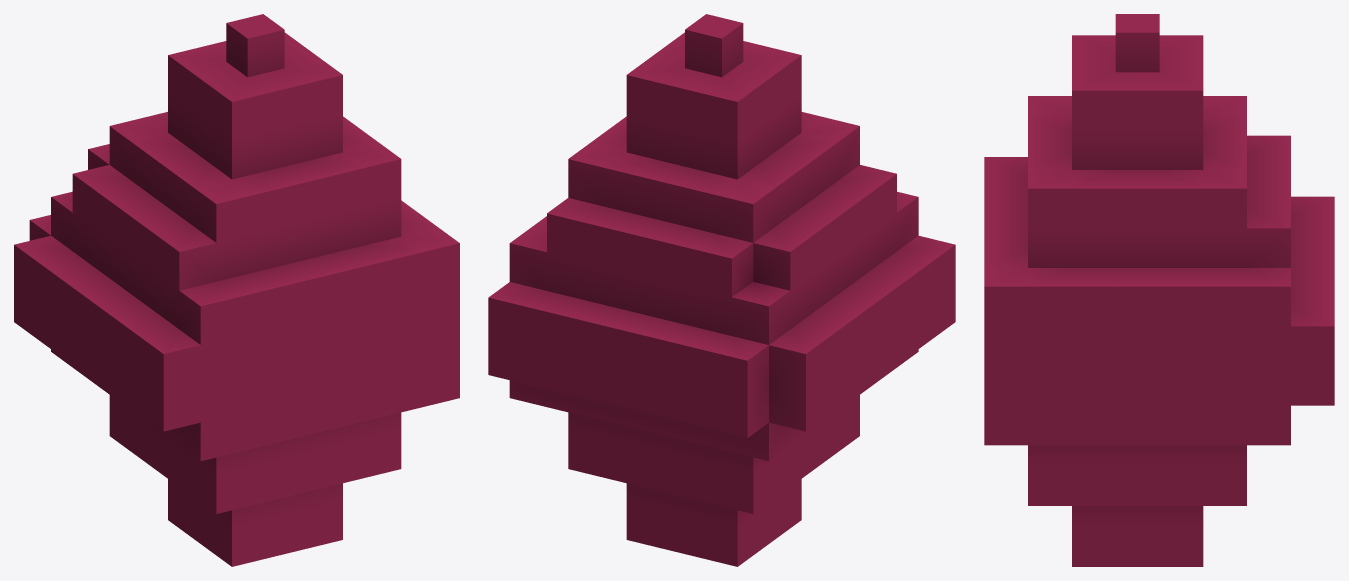
Rendered from gem_pink.glb.
3 renders of one model, left to right at view 1: azimuth 30°, elevation 25°; view 2: azimuth 150°, elevation 25°; view 3: azimuth 270°, elevation 25°, orthographic. The views are drawn at different scales.
Parts seen in each view (by area): view 1: voxels; view 2: voxels; view 3: voxels.
Boxes of the visible parts, box(x1,y1,x2,y2) form: voxels: box(14, 14, 459, 566); voxels: box(488, 14, 955, 566); voxels: box(984, 14, 1334, 566).
Size of the model in its own units: 0.4835 by 0.7856 by 0.4835.
